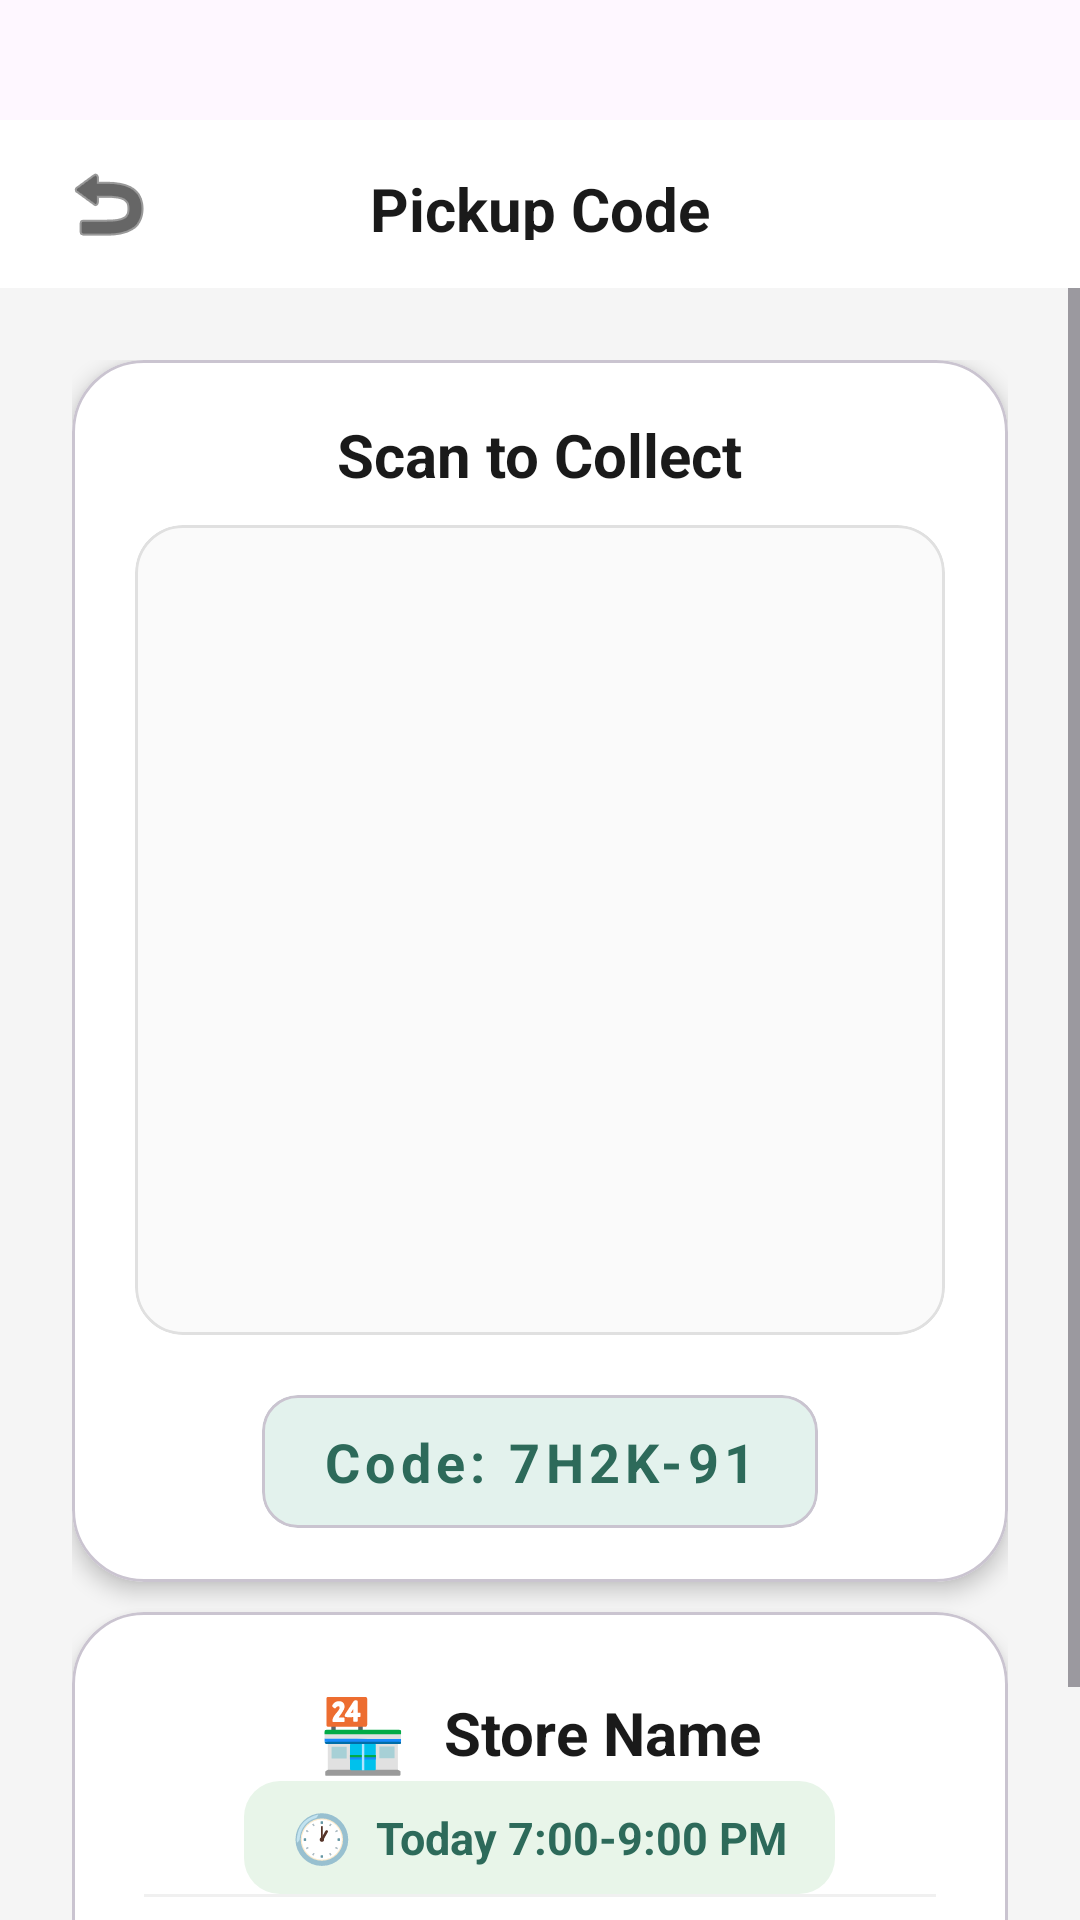

Point at icon controls on the screen. Image size 1080 × 1920, points as [x,y].
Back: [109,204]
